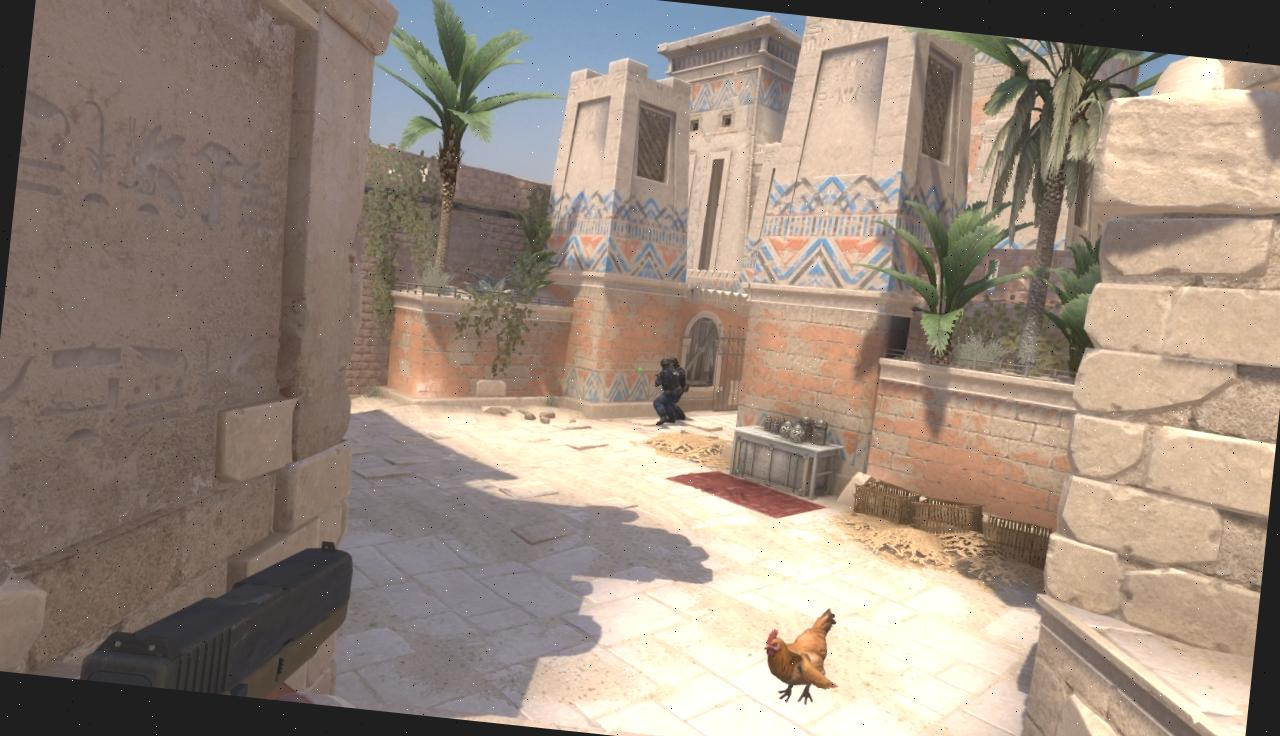ct: (652, 356, 683, 424)
cthead: (659, 358, 670, 368)
pistol: (78, 518, 358, 706)
